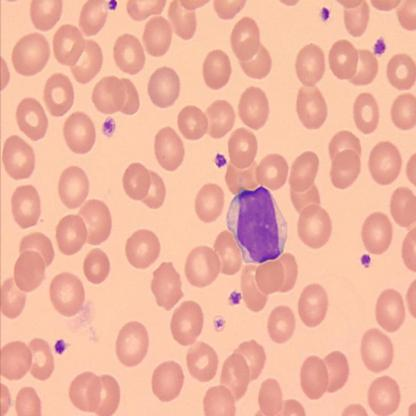Atypical lymphocyte: (226, 186, 289, 264)
